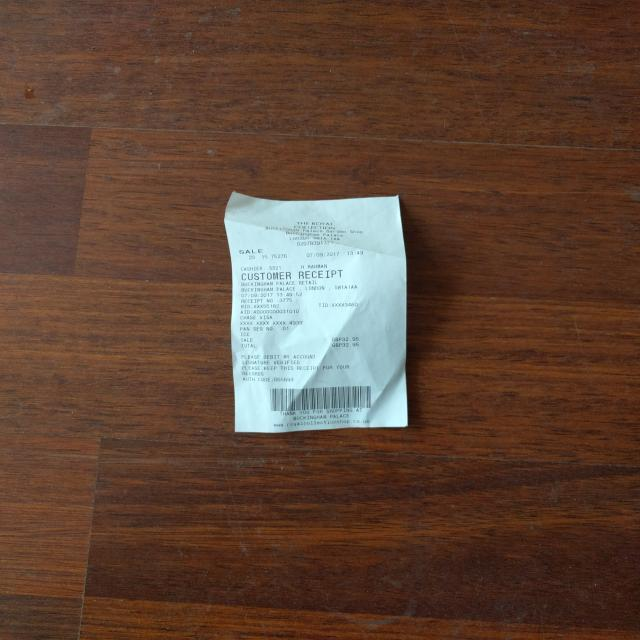document: (225, 192, 407, 432)
